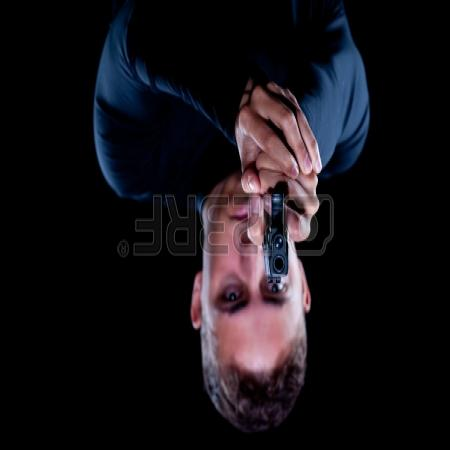Pistol: (261, 188, 291, 286)
